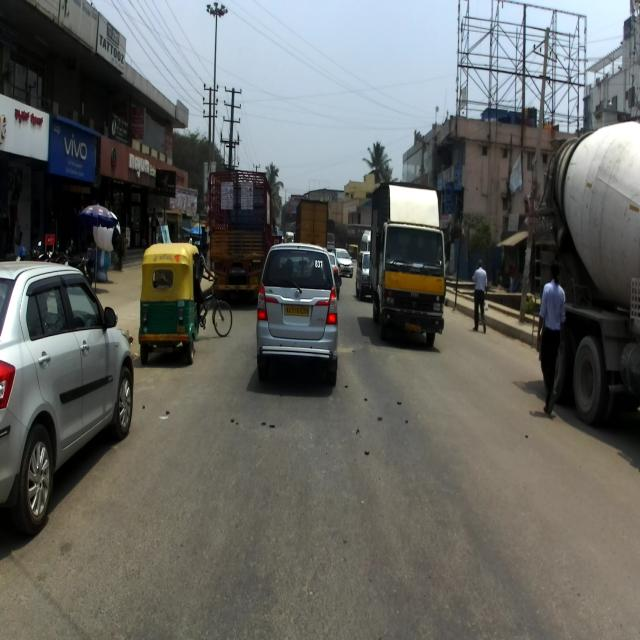auto ahead at: (143, 242, 200, 358)
car ahead at: (0, 250, 138, 532), (256, 240, 344, 391)
truck ahead at: (556, 143, 640, 414), (374, 175, 446, 346)
